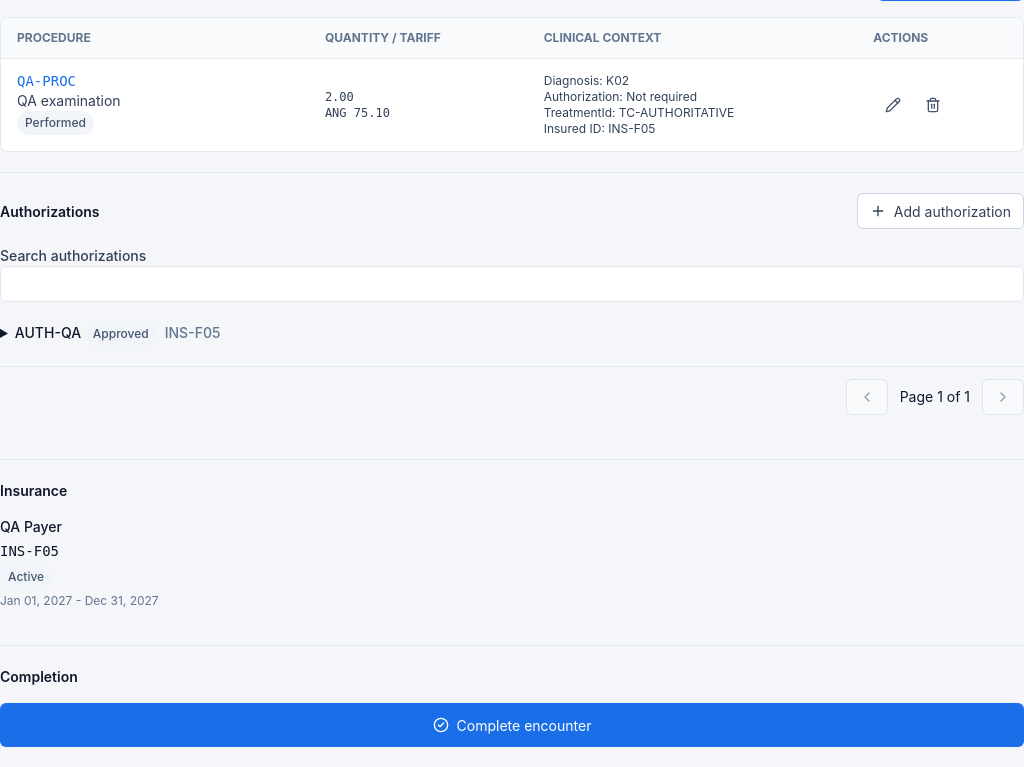
Scenario: clinical route and encounter › completes through the backend then makes all clinical mutations read only
(page scrolled)
Click the button "Complete encounter": (512,725) [0,703,1023,747]
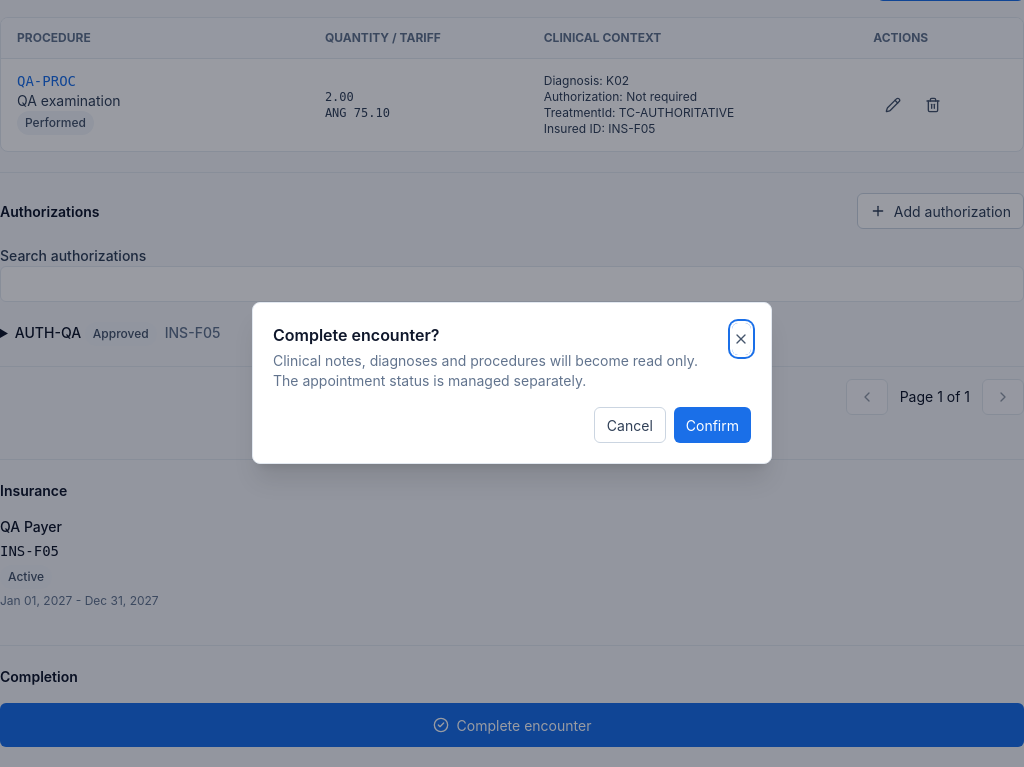
Click the button "Confirm": (712,425) [674,407,751,443]
(page scrolled)
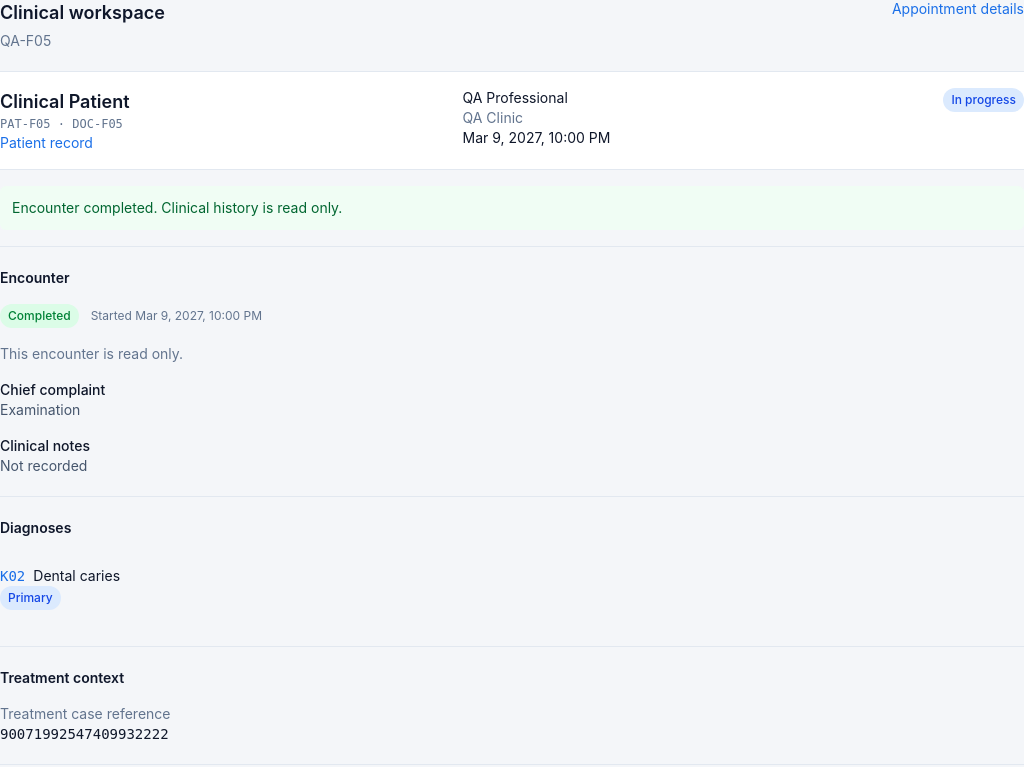
Expected: the text "This encounter is read only." is shown, [0,345,183,362]
